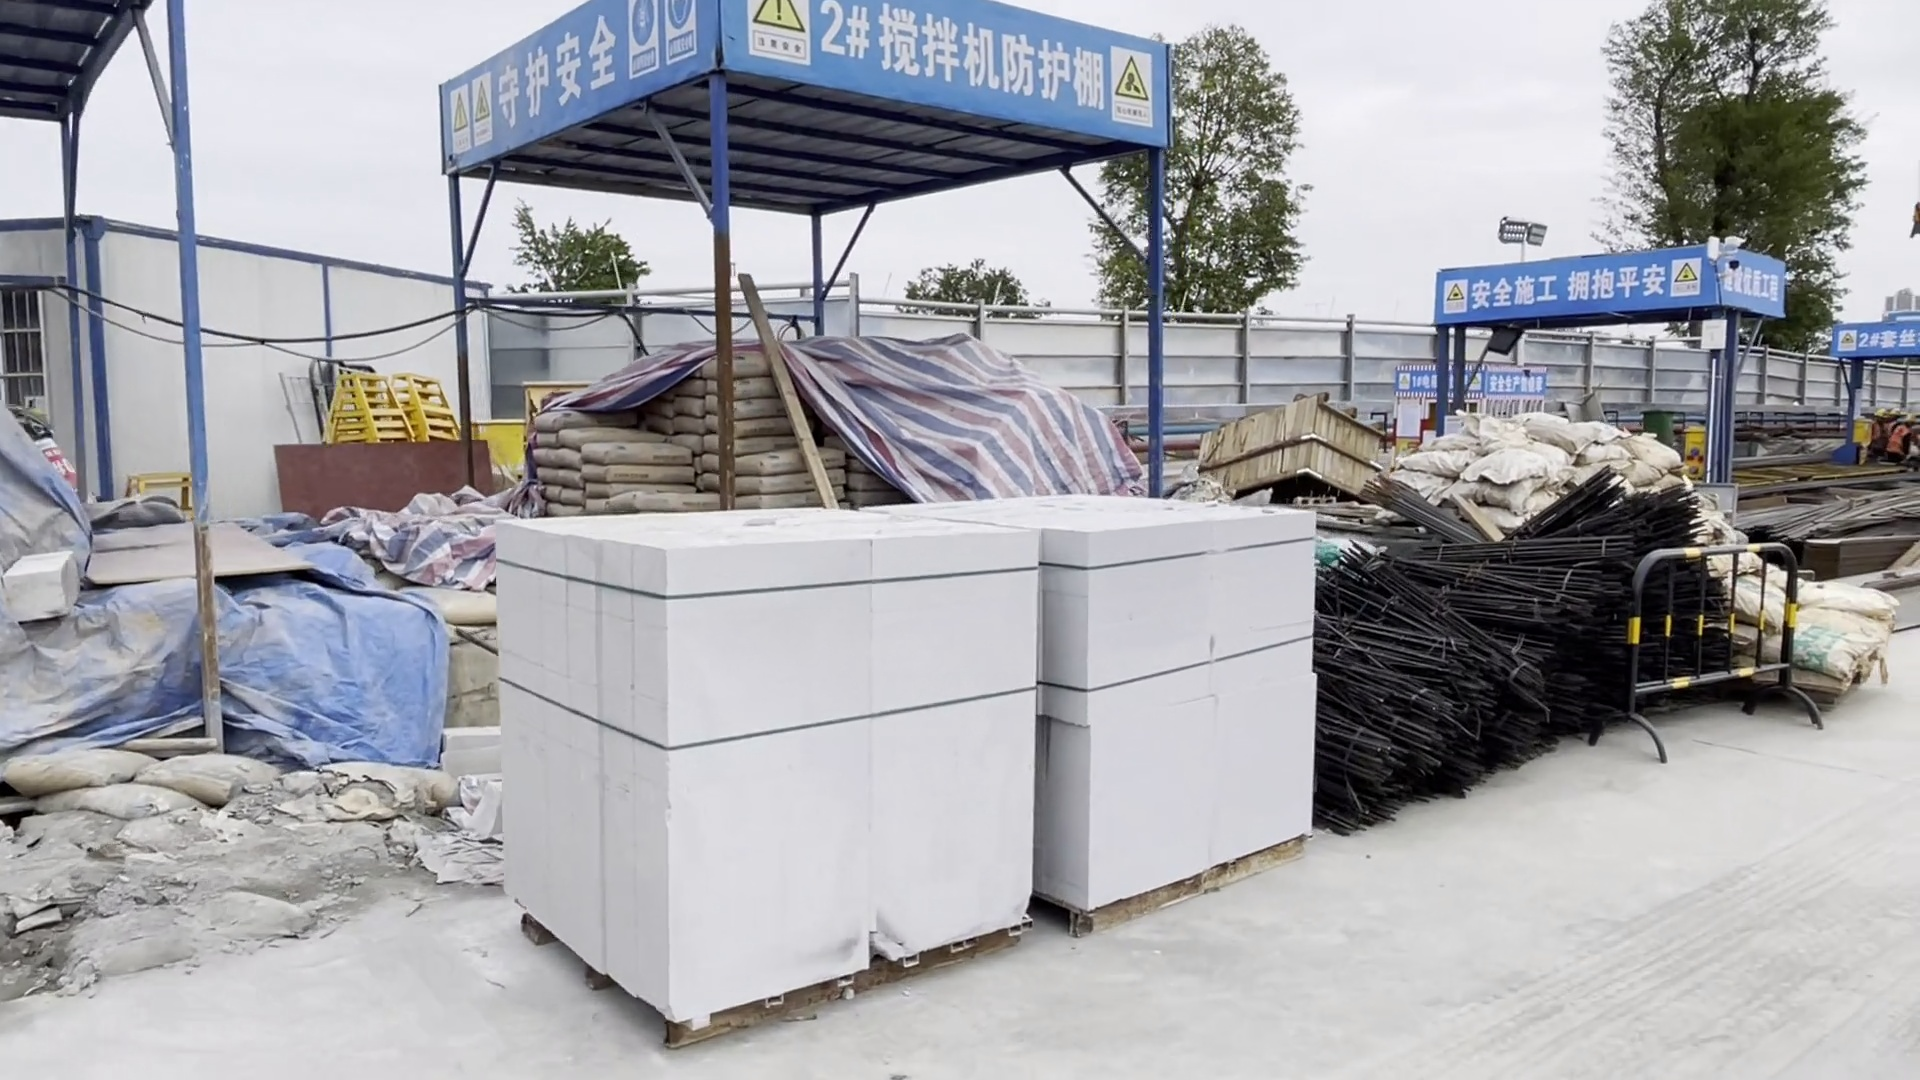brick: (463, 505, 1026, 1040), (940, 483, 1325, 952)
ebox: (1680, 425, 1706, 484)
rebar: (1729, 485, 1920, 545)
slogan: (483, 11, 625, 136), (1451, 265, 1689, 318)
